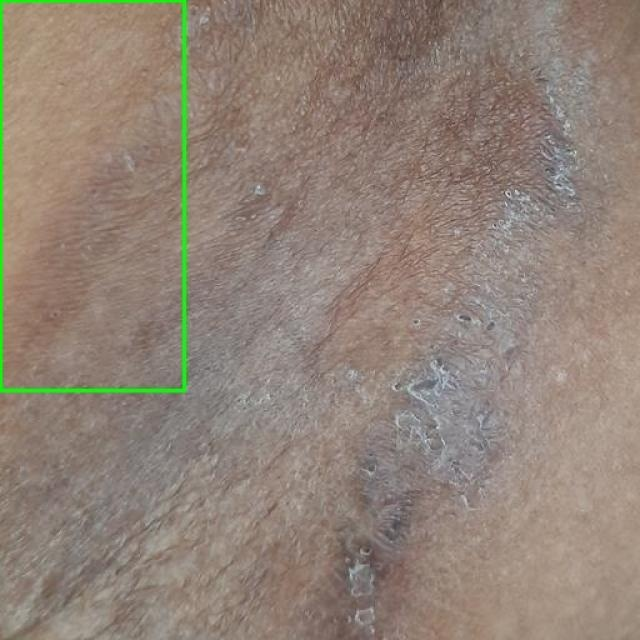Contact Dermatitis: (0, 0, 184, 390)
